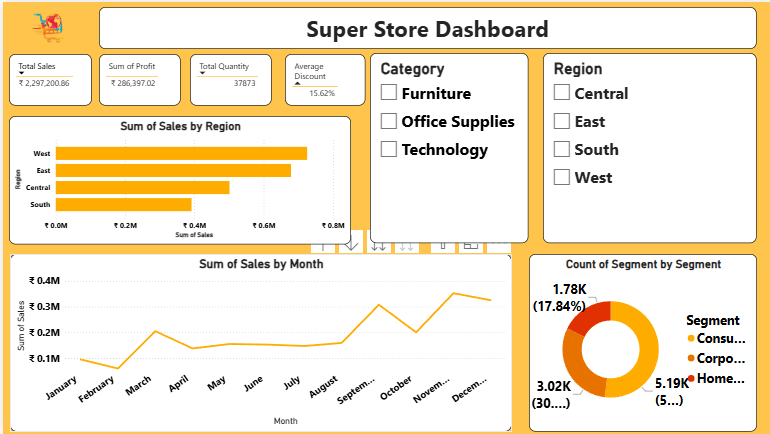

Layout of this report page (visuals, bound fields, positions):
{"tool":"powerbi","page":{"name":"Page 1","canvas":[1280,720],"ordinal":0},"visuals":[{"type":"lineChart","fields":{"Category":["Sample - Superstore.Order Date.Variation.Date Hierarchy.Year","Sample - Superstore.Order Date.Variation.Date Hierarchy.Quarter","Sample - Superstore.Order Date.Variation.Date Hierarchy.Month","Sample - Superstore.Order Date.Variation.Date Hierarchy.Day"],"Y":["Sum(Sample - Superstore.Sales)"]},"box":[12,420,836,296],"z":0},{"type":"barChart","fields":{"Y":["Sum(Sample - Superstore.Sales)"],"Category":["Sample - Superstore.Region"]},"box":[10,190,570,214],"z":1000},{"type":"donutChart","fields":{"Category":["Sample - Superstore.Segment"],"Y":["CountNonNull(Sample - Superstore.Segment)"]},"box":[876,420,380,296],"z":2000},{"type":"tableEx","fields":{"Values":["Sum(Sample - Superstore.Sales)"]},"box":[10,86,138,86],"z":3000},{"type":"tableEx","fields":{"Values":["Sum(Sample - Superstore (2).Profit)"]},"box":[160,86,136,86],"z":4000},{"type":"tableEx","fields":{"Values":["Sum(Sample - Superstore.Quantity)"]},"box":[312,86,136,86],"z":5000},{"type":"tableEx","fields":{"Values":["Avg(Sample - Superstore.Discount)"]},"box":[470,86,134,86],"z":6000},{"type":"slicer","fields":{"Values":["Sample - Superstore.Category"]},"box":[611.4,85.7,263.7,317.5],"z":7000},{"type":"slicer","fields":{"Values":["Sample - Superstore.Region"]},"box":[900.4,85.7,356.1,317.5],"z":8000},{"type":"image","box":[0,0,160,86],"z":9000},{"type":"textbox","box":[160,8,1096,70],"z":10000}]}

Visuals, with their boxes in screenshot pixels (x1, y1, x2, y2), scaled from the page's 1280x720 canvas onto the 770x434 screenshot:
lineChart - Sample - Superstore.Order Date.Variation.Date Hierarchy.Year x Sample - Superstore.Order Date.Variation.Date Hierarchy.Quarter: detection(7, 253, 510, 432)
barChart - Sum(Sample - Superstore.Sales) x Sample - Superstore.Region: detection(6, 115, 349, 244)
donutChart - Sample - Superstore.Segment x CountNonNull(Sample - Superstore.Segment): detection(527, 253, 756, 432)
tableEx - Sum(Sample - Superstore.Sales): detection(6, 52, 89, 104)
tableEx - Sum(Sample - Superstore (2).Profit): detection(96, 52, 178, 104)
tableEx - Sum(Sample - Superstore.Quantity): detection(188, 52, 270, 104)
tableEx - Avg(Sample - Superstore.Discount): detection(283, 52, 363, 104)
slicer - Sample - Superstore.Category: detection(368, 52, 526, 243)
slicer - Sample - Superstore.Region: detection(542, 52, 756, 243)
image: detection(0, 0, 96, 52)
textbox: detection(96, 5, 756, 47)
